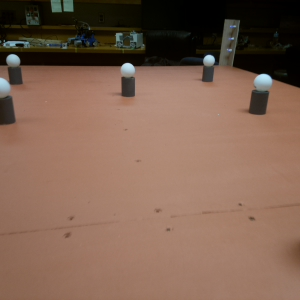corner: (220, 16, 240, 67)
obstacle: (248, 72, 271, 116), (1, 78, 16, 128), (4, 55, 26, 85), (121, 63, 136, 97), (201, 53, 214, 83)
